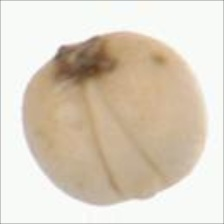L5: (83, 79, 171, 203), (43, 34, 121, 87)
L6: (20, 29, 210, 206)
